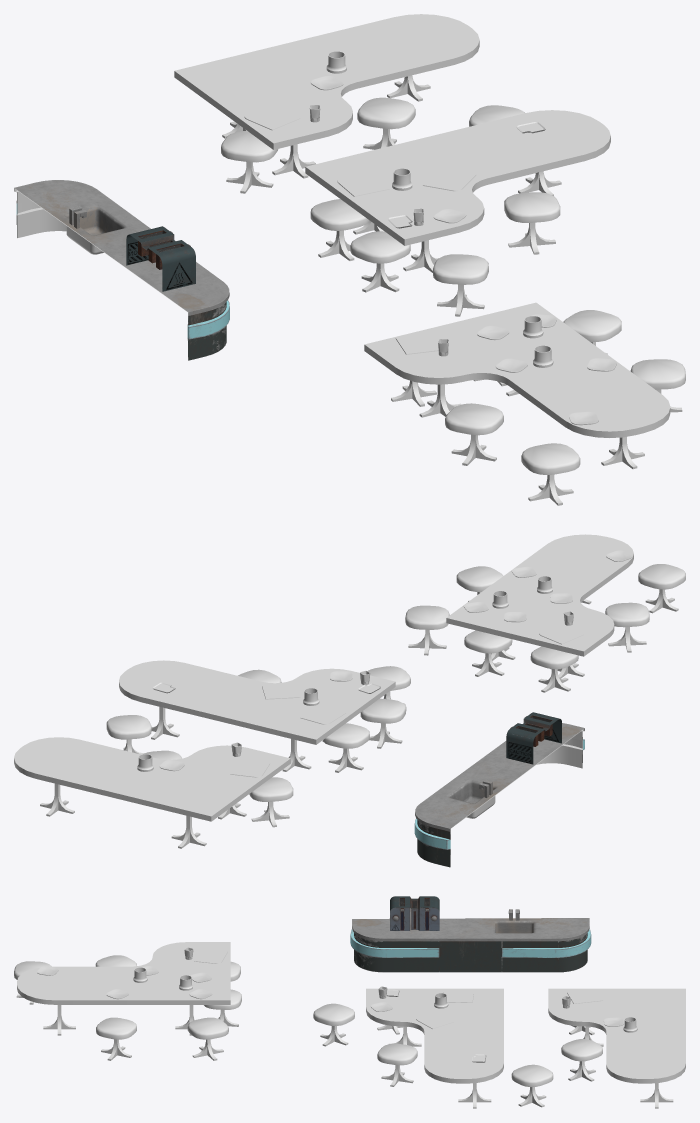
Rendered from MessHall.fbx.
3 views of the same model, one above another, from view 1: azimuth 30°, elevation 25°; view 2: azimuth 150°, elevation 25°; view 3: azimuth 270°, elevation 25° (orthographic). The views are drawn at different scales.
Parts seen in each view (by area): view 1: Table2, Table2.001, Table2.002, Cube.002, Cube.001, Chair.009, Chair.007, Chair.002, Chair.005, Chair.012, Chair.003, Chair (+7 smaller); view 2: Table2, Table2.001, Table2.002, Cube.002, Cube.001, Chair.009, Chair.010, Chair.007, Chair.012, Chair, Cube, Chair.011 (+9 smaller); view 3: Cube.002, Table2, Table2.002, Table2.001, Cube.001, Chair.001, Chair.005, Chair.010, Chair.003, Chair.002, Chair.008, Chair.011 (+6 smaller).
Part boxes in pixels (bbox=[...]): Table2: bbox=[174, 14, 479, 178]; Table2.001: bbox=[305, 110, 610, 272]; Table2.002: bbox=[364, 302, 670, 469]; Cube.002: bbox=[14, 180, 229, 360]; Cube.001: bbox=[126, 226, 195, 291]; Chair.009: bbox=[521, 443, 580, 505]; Chair.007: bbox=[445, 403, 503, 465]; Chair.002: bbox=[504, 192, 560, 254]; Chair.005: bbox=[433, 254, 488, 316]; Chair.012: bbox=[350, 231, 410, 292]; Chair.003: bbox=[357, 97, 415, 149]; Chair: bbox=[310, 199, 369, 260]; Table2: bbox=[14, 737, 290, 848]; Table2.001: bbox=[119, 660, 395, 771]; Table2.002: bbox=[446, 534, 633, 678]; Cube.002: bbox=[414, 723, 584, 867]; Cube.001: bbox=[506, 712, 561, 764]; Chair.009: bbox=[638, 564, 685, 613]; Chair.010: bbox=[405, 605, 449, 655]; Chair.007: bbox=[605, 602, 649, 652]; Chair.012: bbox=[360, 698, 406, 748]; Chair: bbox=[323, 723, 369, 772]; Cube: bbox=[450, 728, 584, 866]; Chair.011: bbox=[464, 630, 512, 676]; Cube.002: bbox=[350, 909, 591, 972]; Table2: bbox=[548, 988, 685, 1108]; Table2.002: bbox=[17, 942, 230, 1035]; Table2.001: bbox=[366, 988, 503, 1108]; Cube.001: bbox=[390, 896, 439, 930]; Chair.001: bbox=[511, 1064, 553, 1107]; Chair.005: bbox=[313, 1003, 354, 1046]; Chair.010: bbox=[187, 1017, 228, 1060]; Chair.003: bbox=[561, 1039, 602, 1081]; Chair.002: bbox=[377, 1043, 417, 1086]; Chair.008: bbox=[96, 1017, 136, 1060]; Chair.011: bbox=[204, 989, 241, 1026].
Bounding box in the file's own units: 958 × 153 × 1618.
